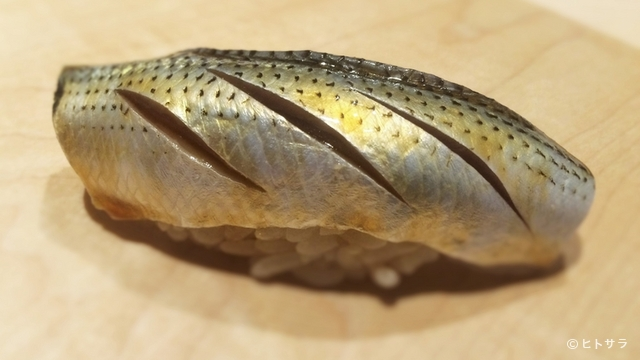spotted-shad: (48, 40, 598, 312)
